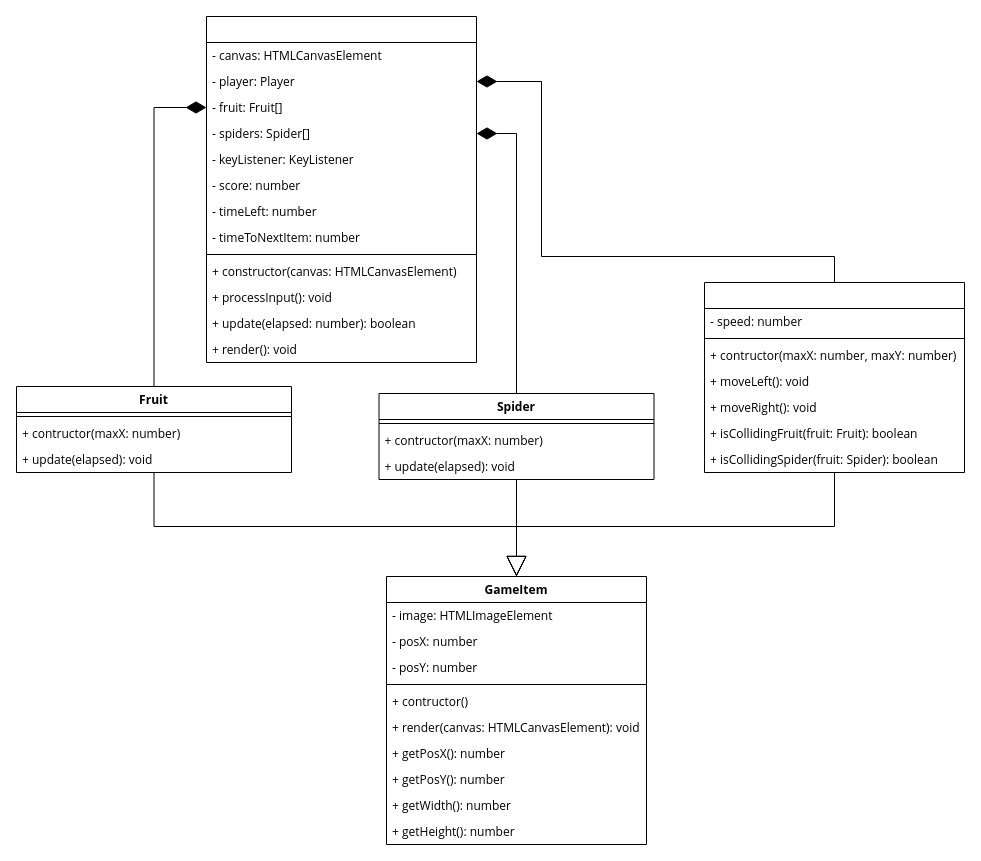
The diagram is 981 pixels wide and 861 high, and some of its shapes have lost their labels. The shapes that lost their labels are listed below. From the top down, each one's box as (x1, y1, x2, y2) in pixels, then its label:
(206, 16, 476, 362): FruitDrop
(704, 282, 964, 472): Player
